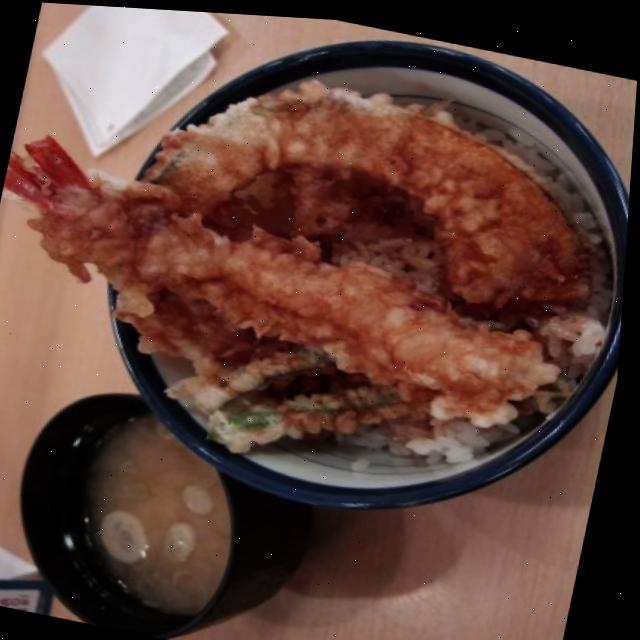汤锅炖物: (4, 362, 269, 640)
熟制海鲜: (49, 4, 640, 555)
